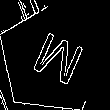M_SW: (22, 26, 84, 91)
